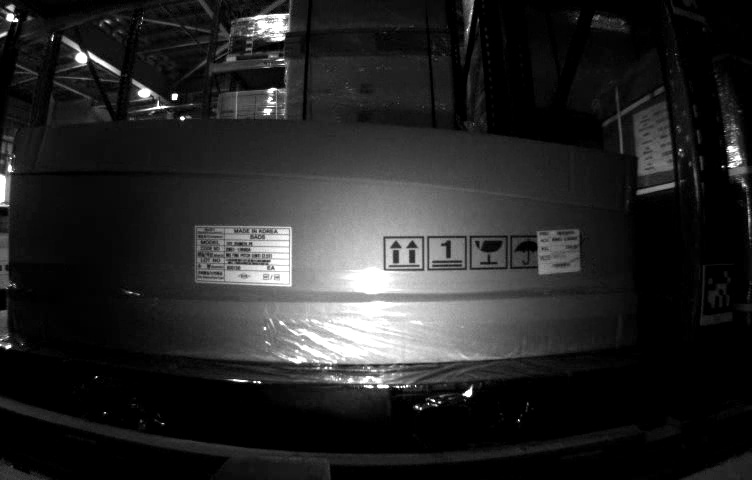True Barcode: (535, 227, 582, 275)
